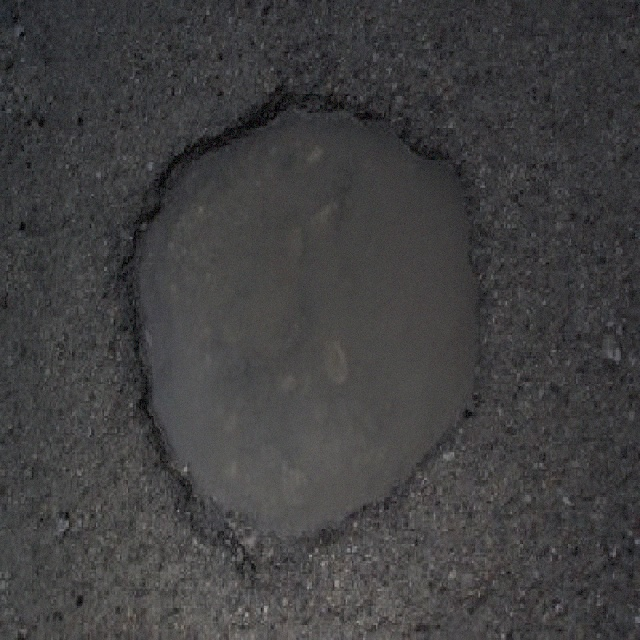pothole: (117, 81, 490, 578)
